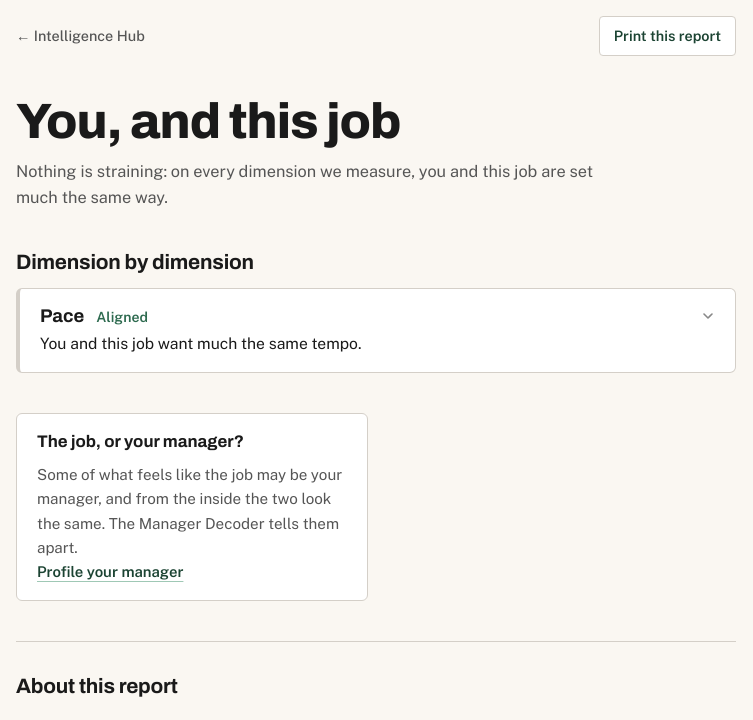
Test: SituationReportPage › complete › leads an aligned row with its note's first sentence and keeps the rest behind 'Read more'
Check: the text "You and this job want much the same tempo." is shown, box 40,334 -> 362,354
Check: the text "That is worth protecting." is not shown
Click the button named "Read more for Pace" at (378, 331), box 20,289 -> 735,372
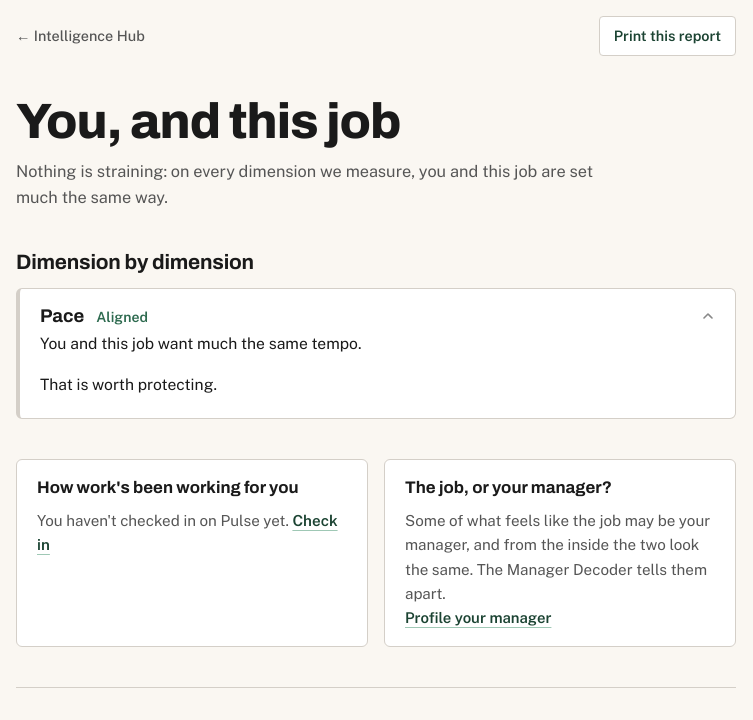
Check: the text "That is worth protecting." is shown, box 40,375 -> 217,394
